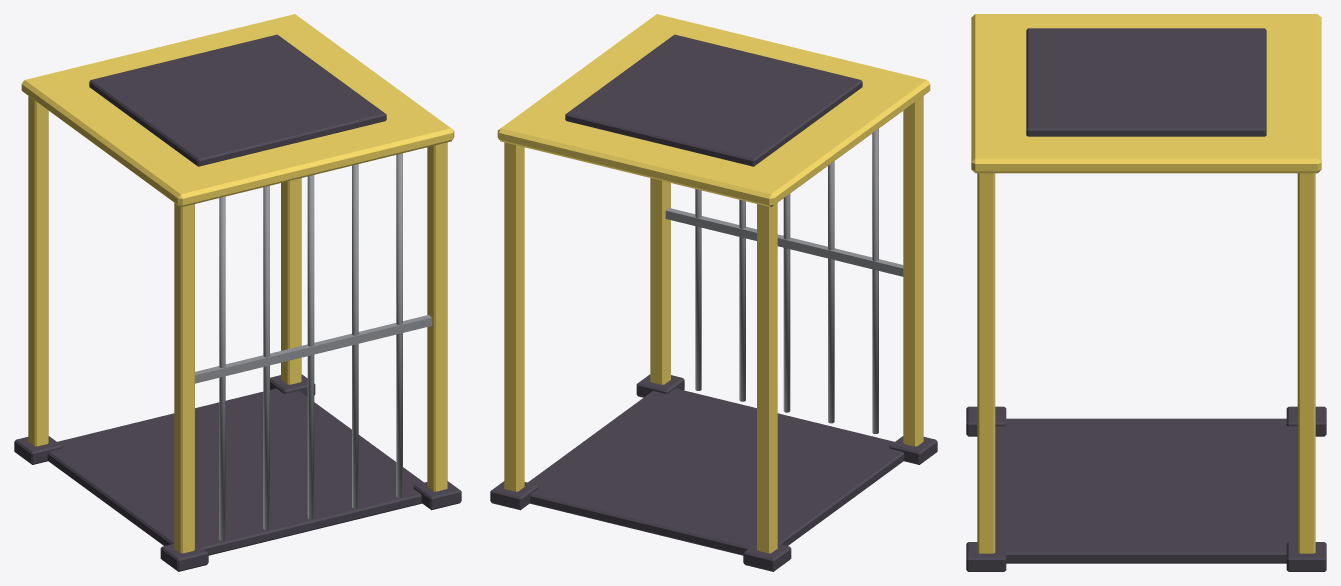
Rendered from v_ab_cage.glb.
3 renders of one model, left to right at view 1: azimuth 30°, elevation 25°; view 2: azimuth 150°, elevation 25°; view 3: azimuth 270°, elevation 25°, orthographic. The views are drawn at different scales.
Parts seen in each view (by area): view 1: CageFrame; view 2: CageFrame; view 3: CageFrame.
Part boxes in pixels (x1=…): CageFrame: x1=14, y1=14, x2=461, y2=571; CageFrame: x1=490, y1=14, x2=937, y2=571; CageFrame: x1=966, y1=14, x2=1326, y2=571.
Bounding box in the file's own units: 1.8 × 2.31 × 1.8.
